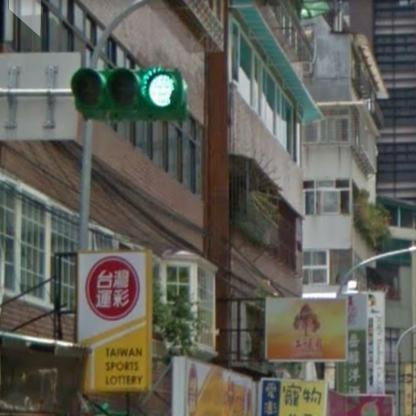Green Light: (72, 67, 183, 110)
